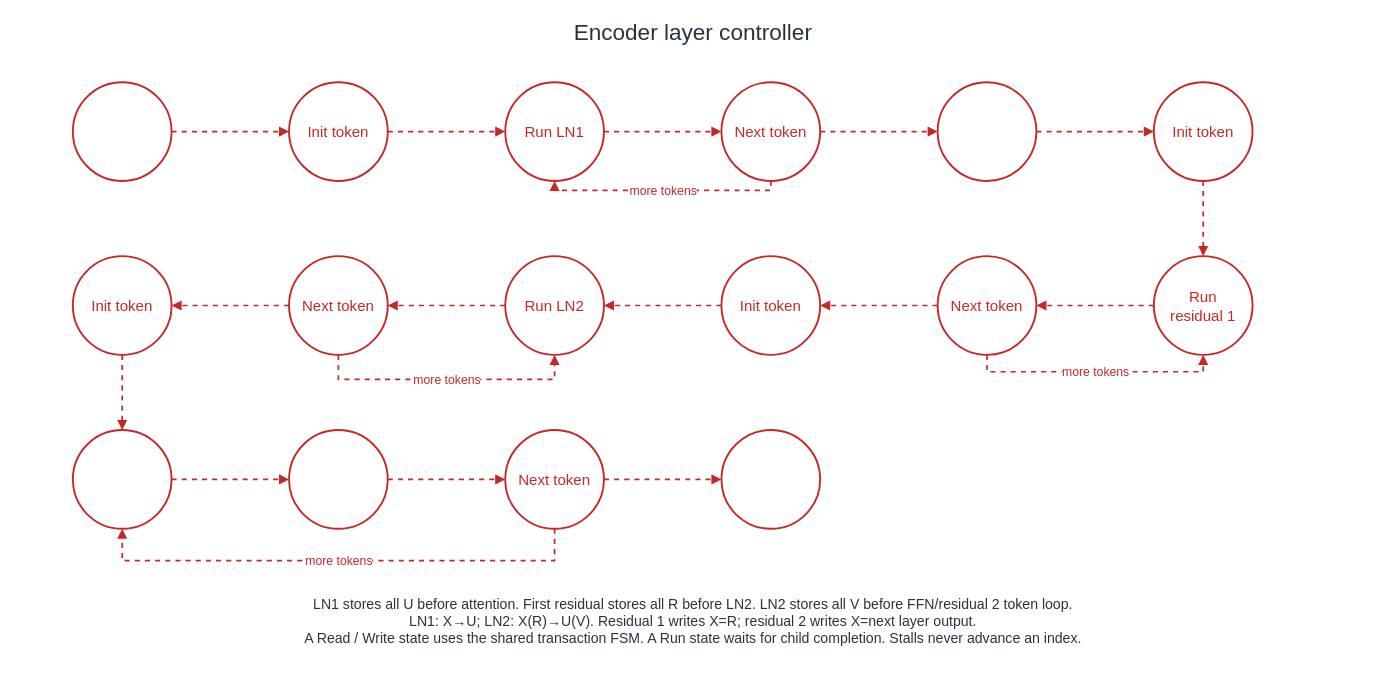
Some shapes in this 1386 by 676 pixel diagram are drawn without their labels. Each missing label, with the box of its shape:
Done: (720, 429, 821, 529)
Idle: (71, 81, 172, 181)
Run attention: (936, 81, 1037, 181)
Run FFN: (71, 429, 172, 529)
Run residual 2: (288, 429, 388, 529)
